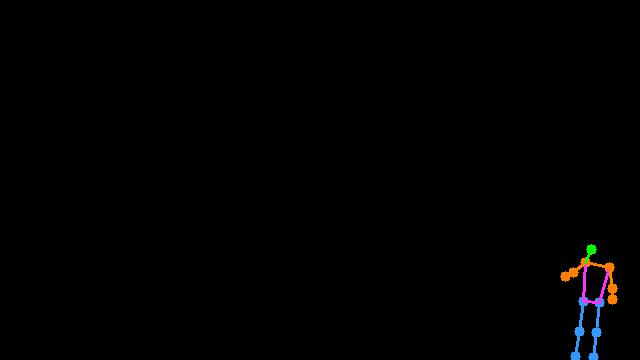normal: (558, 219, 618, 360)
